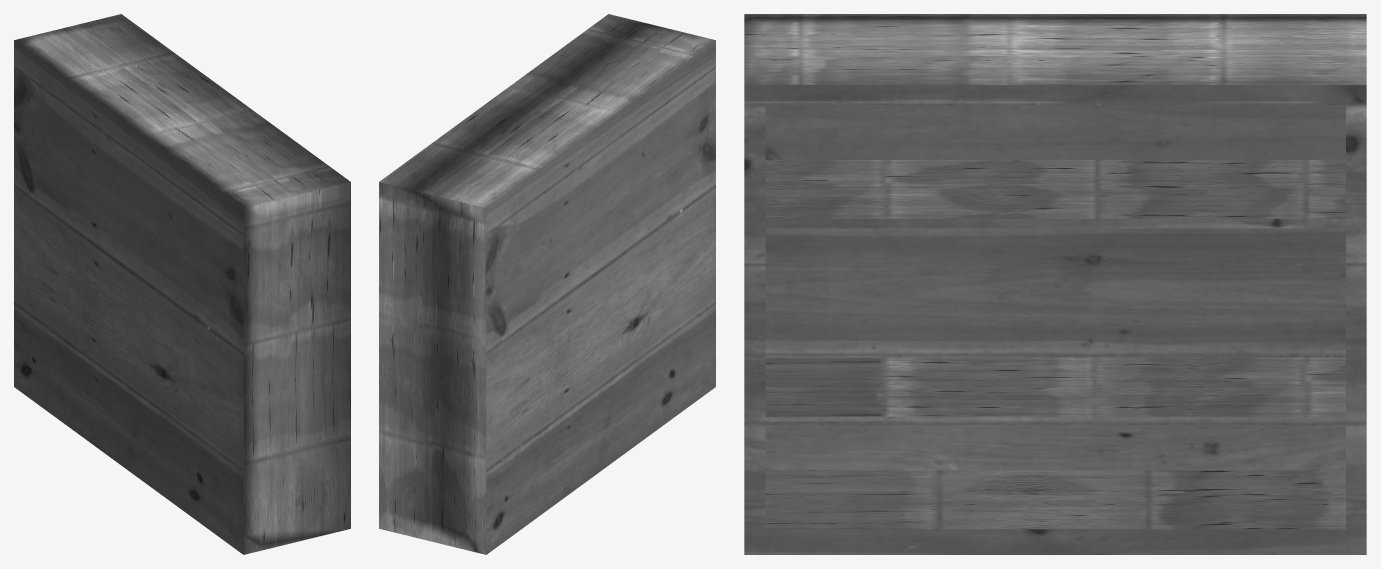
Rendered from shelf.fbx.
3 renders of one model, left to right at view 1: azimuth 30°, elevation 25°; view 2: azimuth 150°, elevation 25°; view 3: azimuth 270°, elevation 25°, orthographic. The views are drawn at different scales.
Visible parts, largest first — view 1: Cube; view 2: Cube; view 3: Cube.
Boxes of the visible parts, bbox=[...] form: Cube: bbox=[14, 14, 350, 554]; Cube: bbox=[379, 14, 715, 554]; Cube: bbox=[744, 14, 1366, 554].
Bounding box in the file's own units: 162 × 500 × 600.
